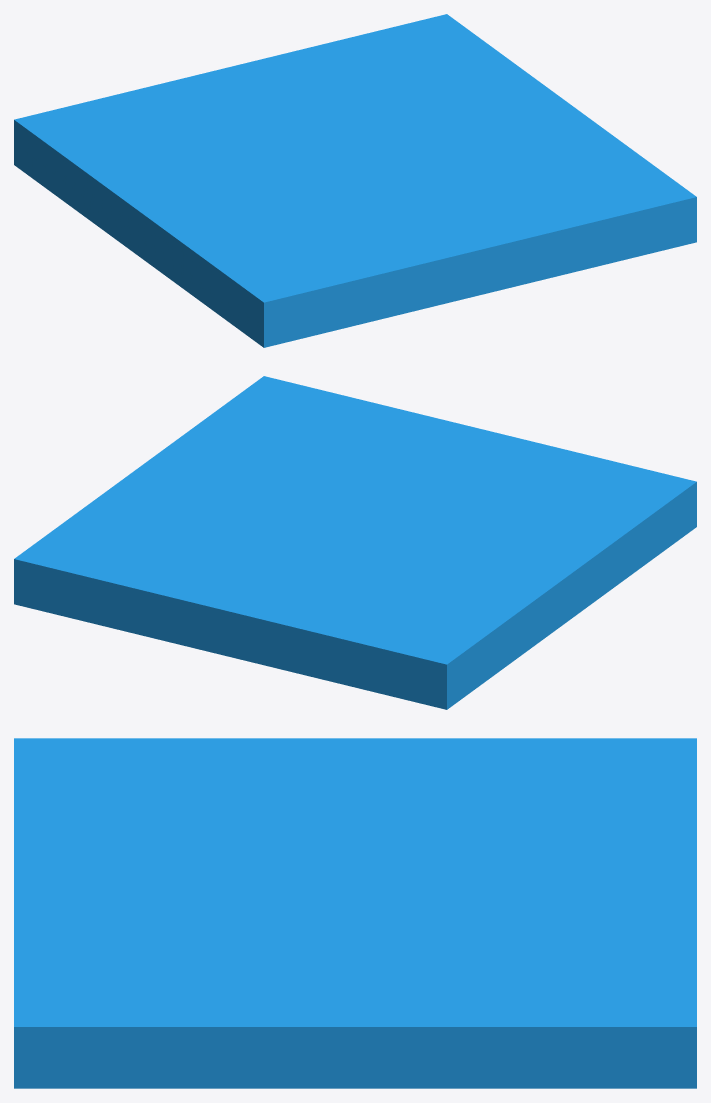
File: TileWater_03.fbx
3 views of the same model, one above another, from view 1: azimuth 30°, elevation 25°; view 2: azimuth 150°, elevation 25°; view 3: azimuth 270°, elevation 25° (orthographic). The views are drawn at different scales.
Parts seen in each view (by area): view 1: TileWater_03; view 2: TileWater_03; view 3: TileWater_03.
Boxes of the visible parts, <box> form: TileWater_03: <box>14,14,696,347</box>; TileWater_03: <box>14,376,696,709</box>; TileWater_03: <box>14,738,696,1088</box>.
Bounding box in the file's own units: 500 × 50 × 500.
